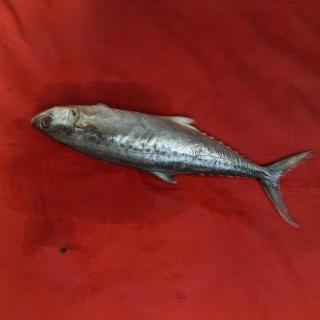Ikan: (23, 100, 319, 235)
